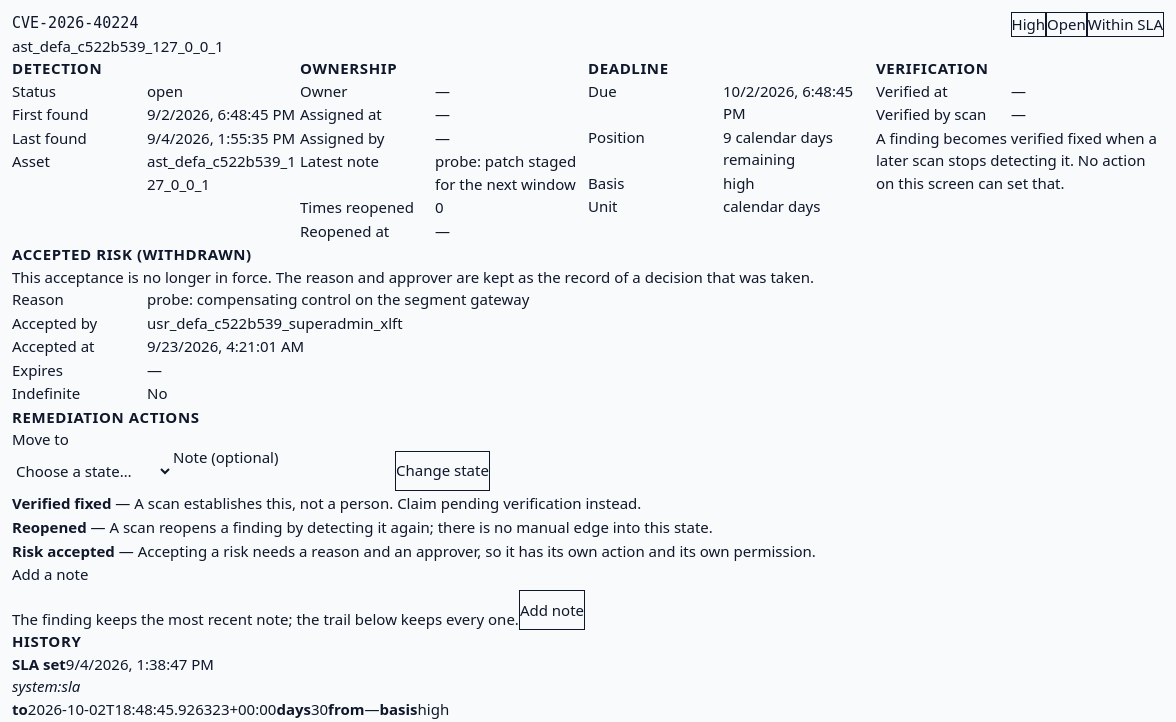
Test: what the API refuses is what the operator is told › shows the backend's own sentence rather than 'failed'
The image size is (1176, 722).
expect the heading "Remediation actions" is shown: met, box [12,406,200,426]
Select "In remediation" in the dropdown labelled "Move to": (92, 470) [12,450,173,490]
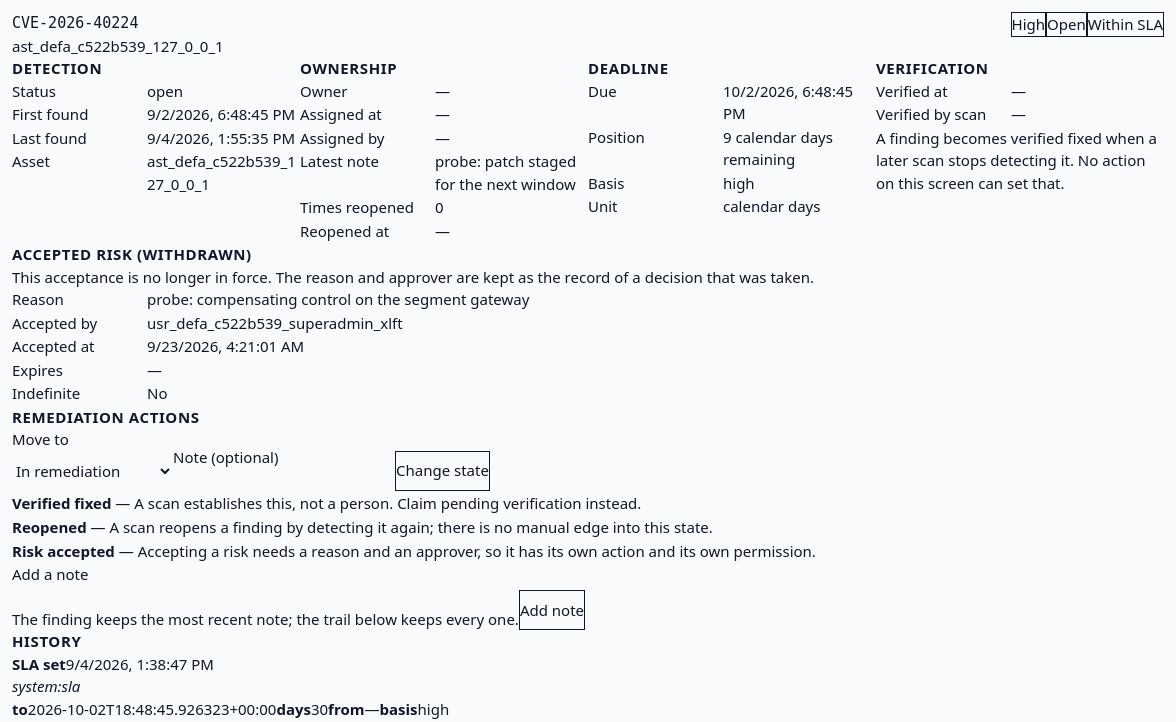
Click the button "Change state": (442, 470) [395,450,490,490]
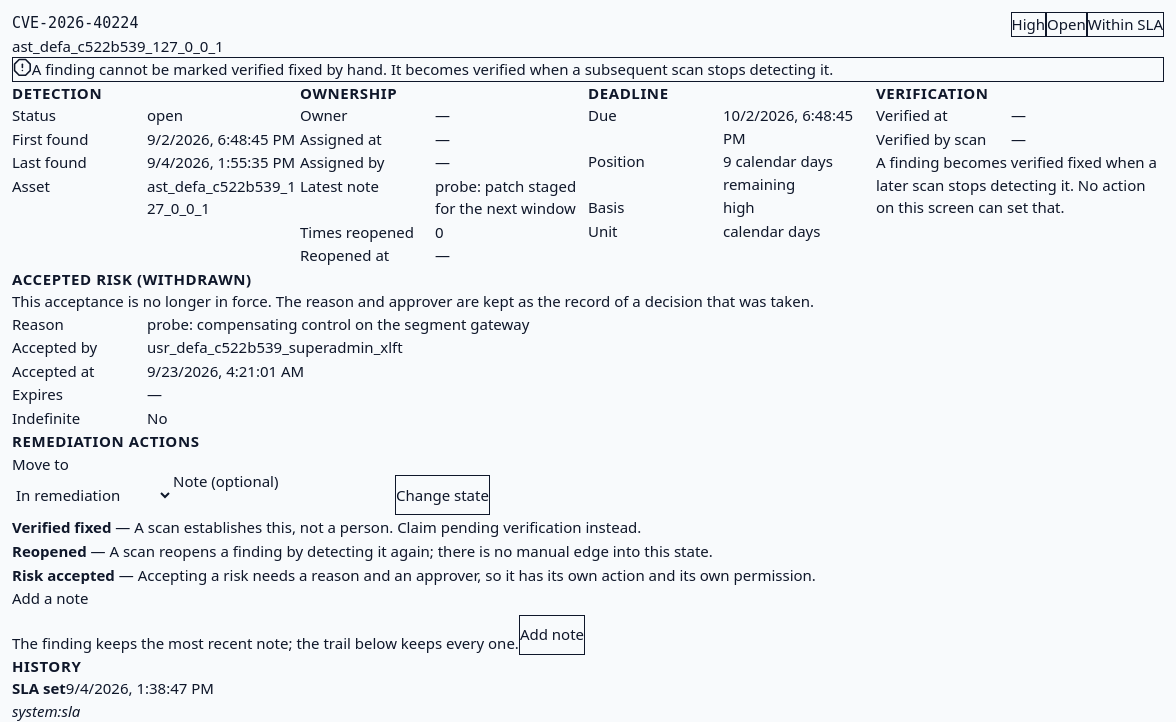
expect the text "cannot be marked verified fixed by hand" is shown: met, box [32,59,833,79]
